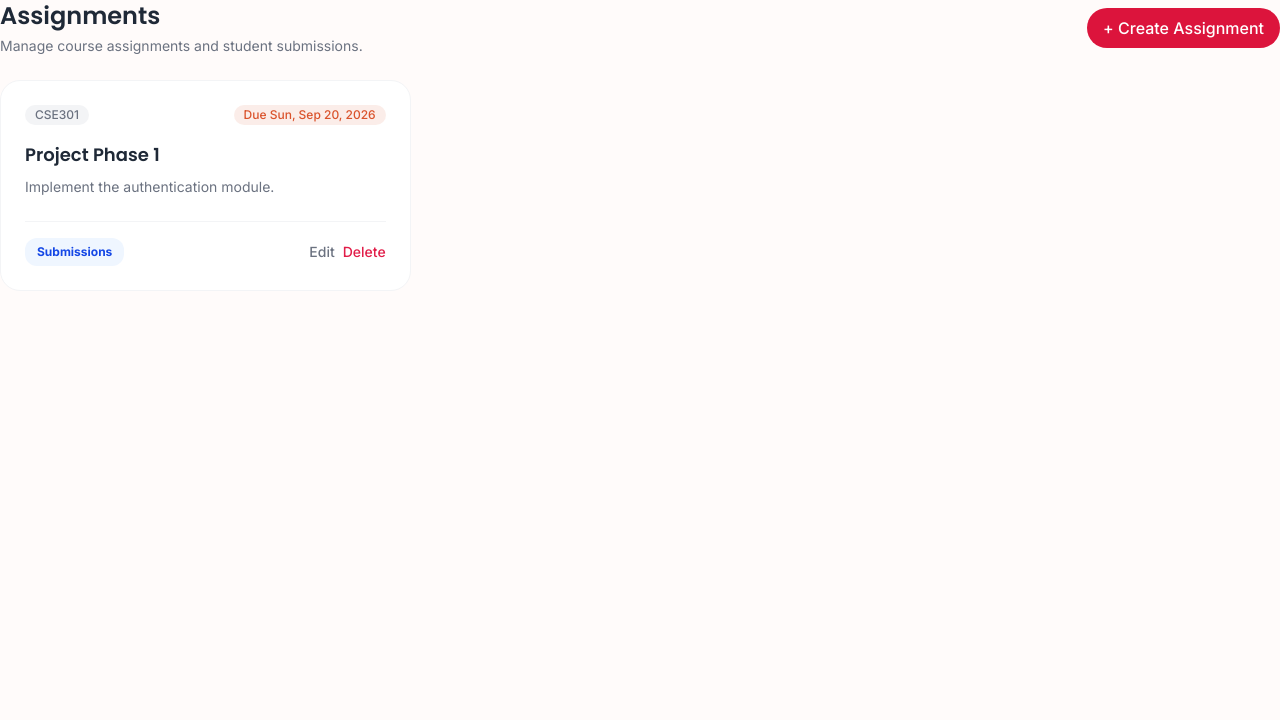
Test: AssignmentsPanel Component › closes the delete dialog when Cancel is clicked
Click the button "Delete" at [364, 252], box [343,242,386,262]
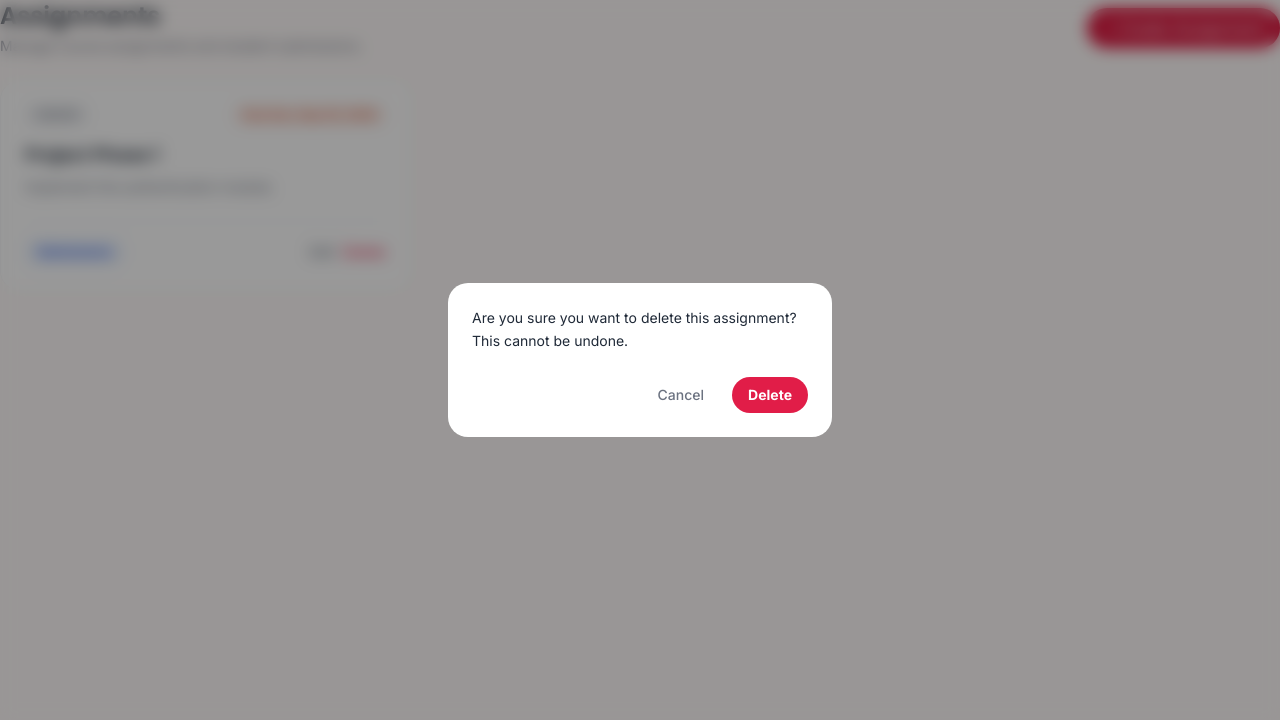
Click the button "Cancel" at [681, 395], box [642,377,720,413]
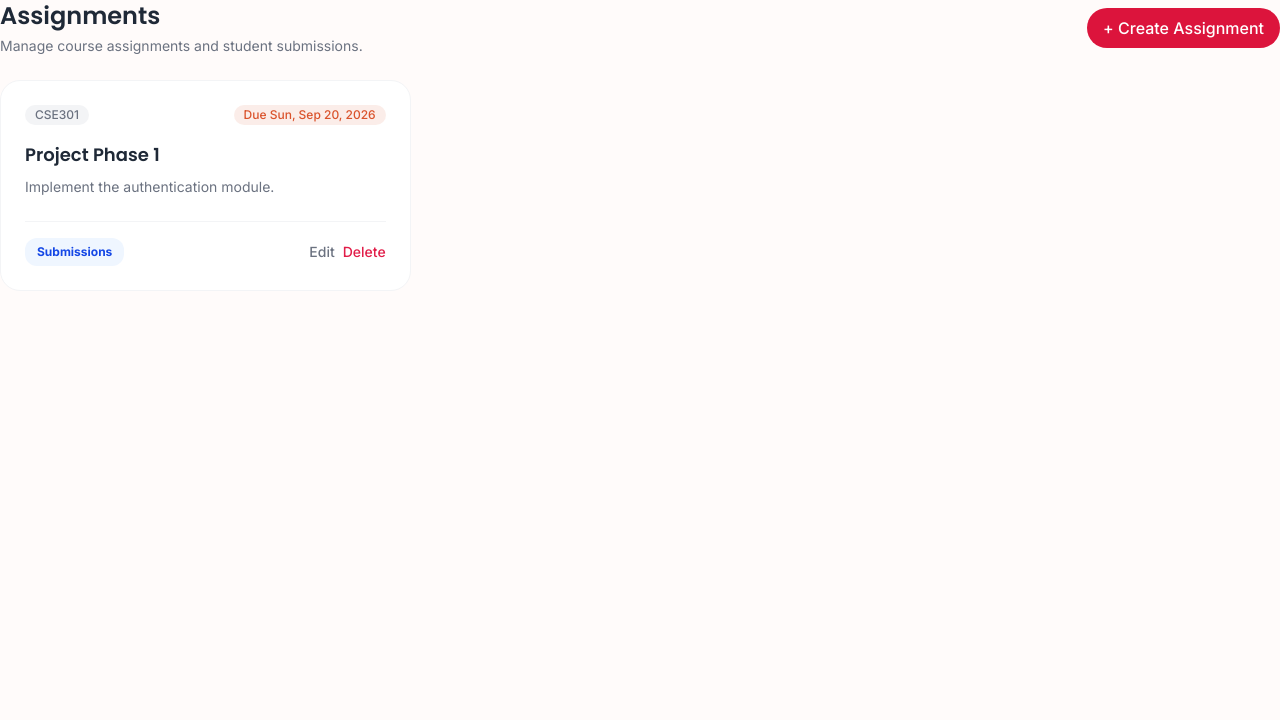
Result: the text "Are you sure you want to delete this assignment" is gone
